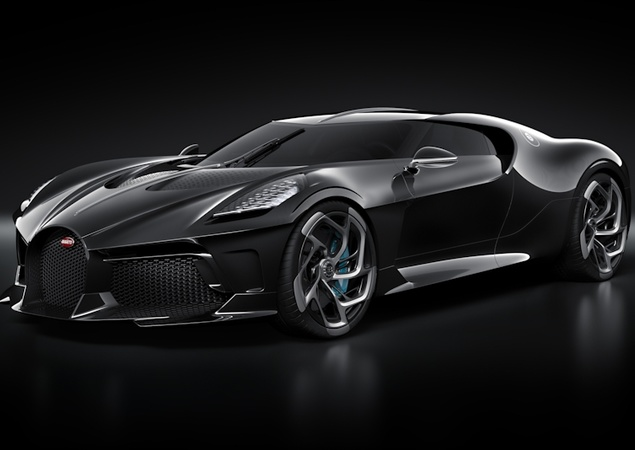Carro: (6, 99, 634, 348)
